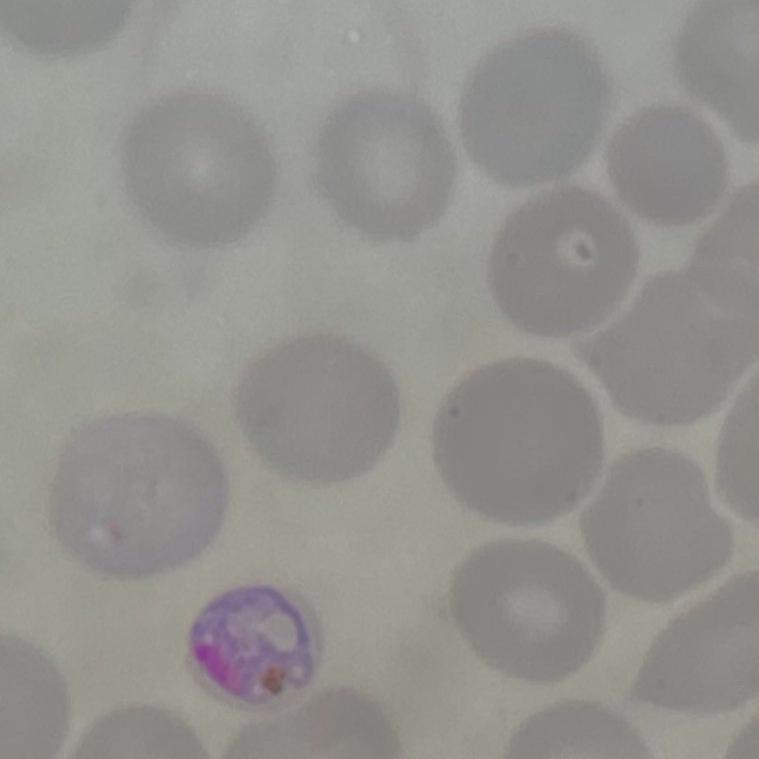Infected: (183, 583, 325, 713)
Uninfected: (432, 355, 605, 530), (44, 409, 228, 572), (572, 277, 759, 418), (228, 339, 397, 485), (462, 25, 608, 194), (310, 89, 453, 249), (584, 445, 729, 602), (450, 537, 604, 683), (122, 95, 269, 246), (484, 189, 632, 334), (636, 575, 759, 724), (604, 105, 728, 225)
